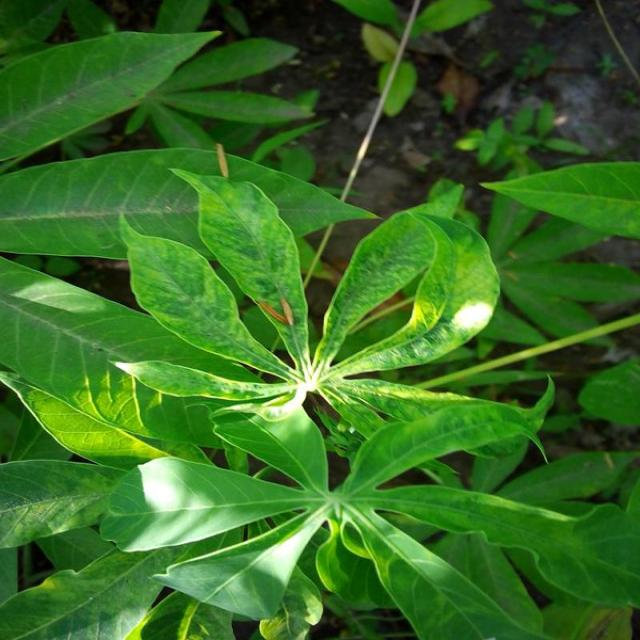cassava leaf: (2, 7, 638, 638)
